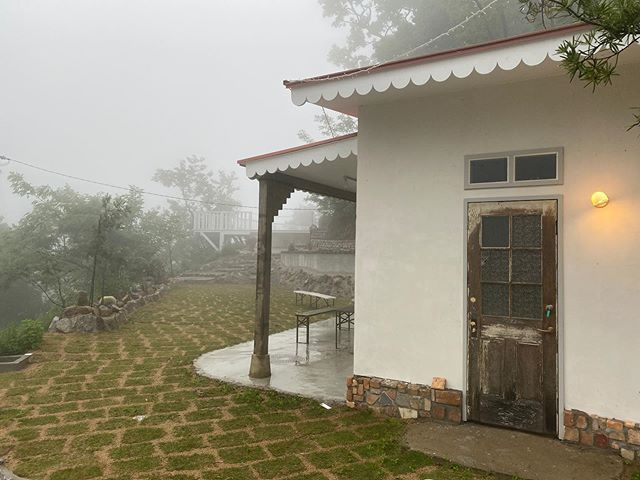building: (243, 12, 640, 457)
door: (464, 195, 561, 436)
sky: (1, 1, 317, 160)
tree: (1, 181, 177, 341), (159, 154, 243, 244)
